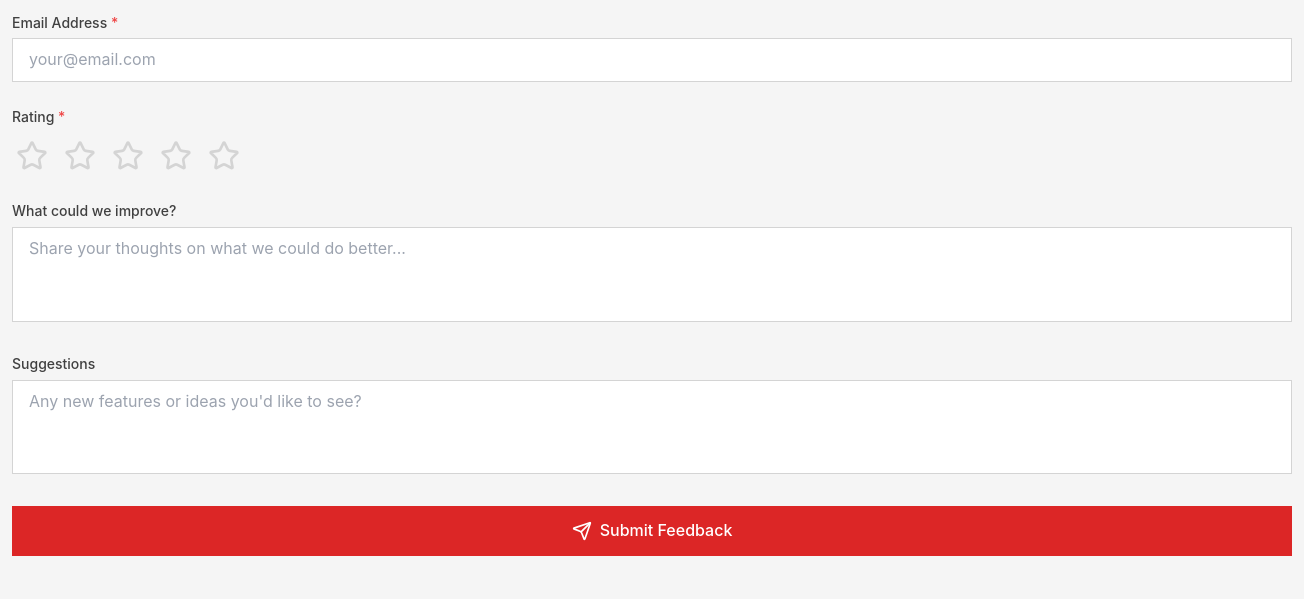
it: PublicFeedbackForm › submits form successfully
Step 1. Type "test@test.com" into the field labelled "Email Address *" → (652, 60), box top-left (12, 38), bottom-right (1292, 82)
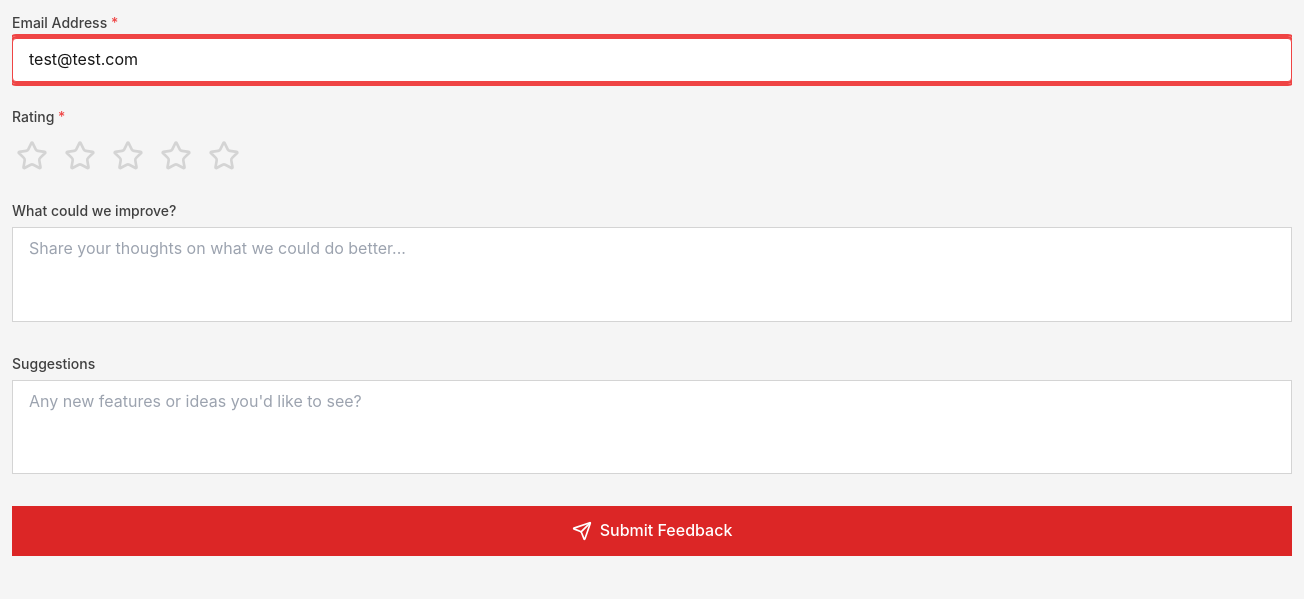
Step 2. Click the 4th button → (176, 156), box top-left (156, 136), bottom-right (196, 176)
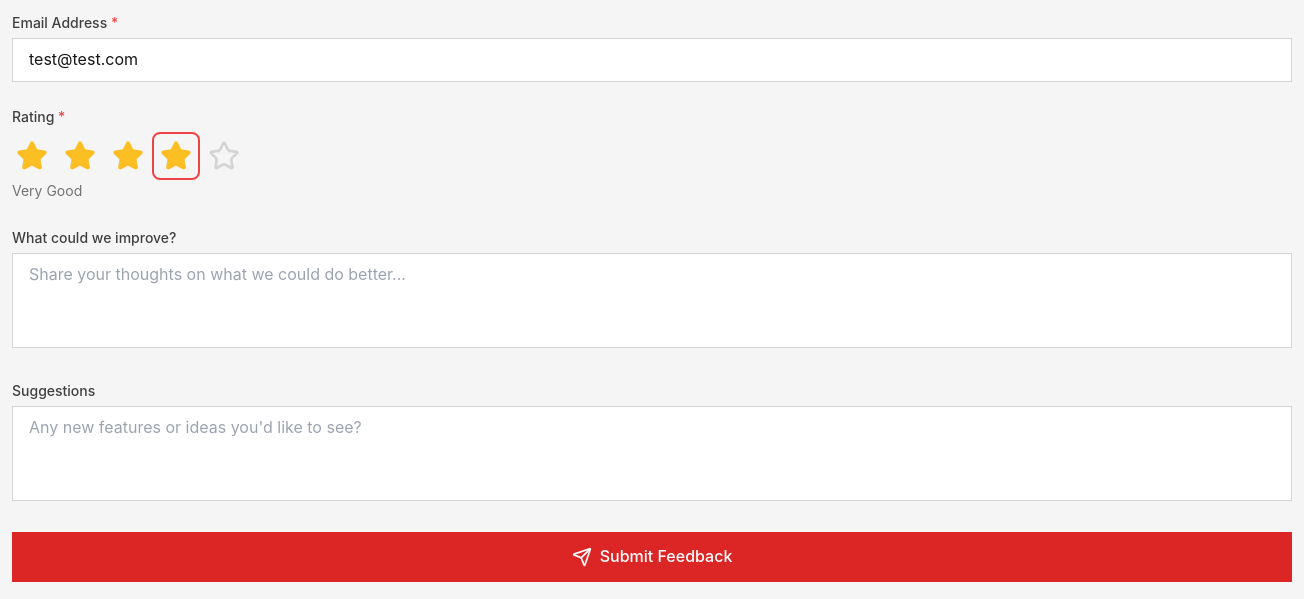
Step 3. Type "Better docs" into the text box labelled "What could we improve?" → (652, 301), box top-left (12, 253), bottom-right (1292, 348)
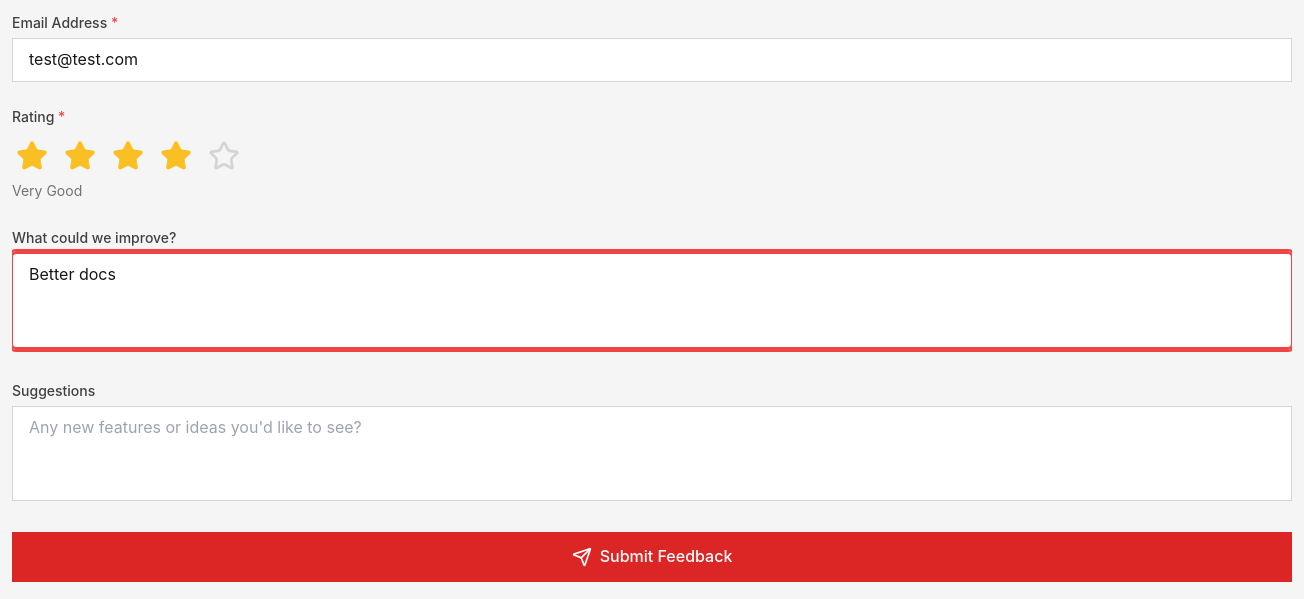
Step 4. Type "Add dark mode" into the text box labelled "Suggestions" → (652, 453), box top-left (12, 406), bottom-right (1292, 501)
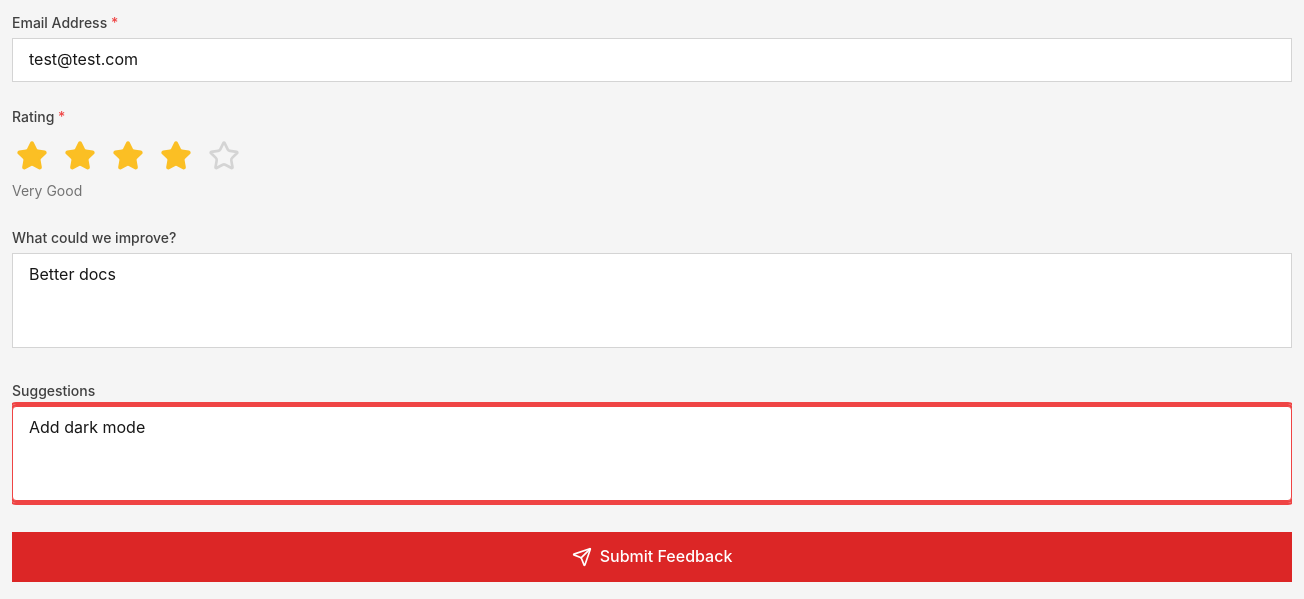
Step 5. Click the button "Submit Feedback" → (652, 557), box top-left (12, 532), bottom-right (1292, 582)
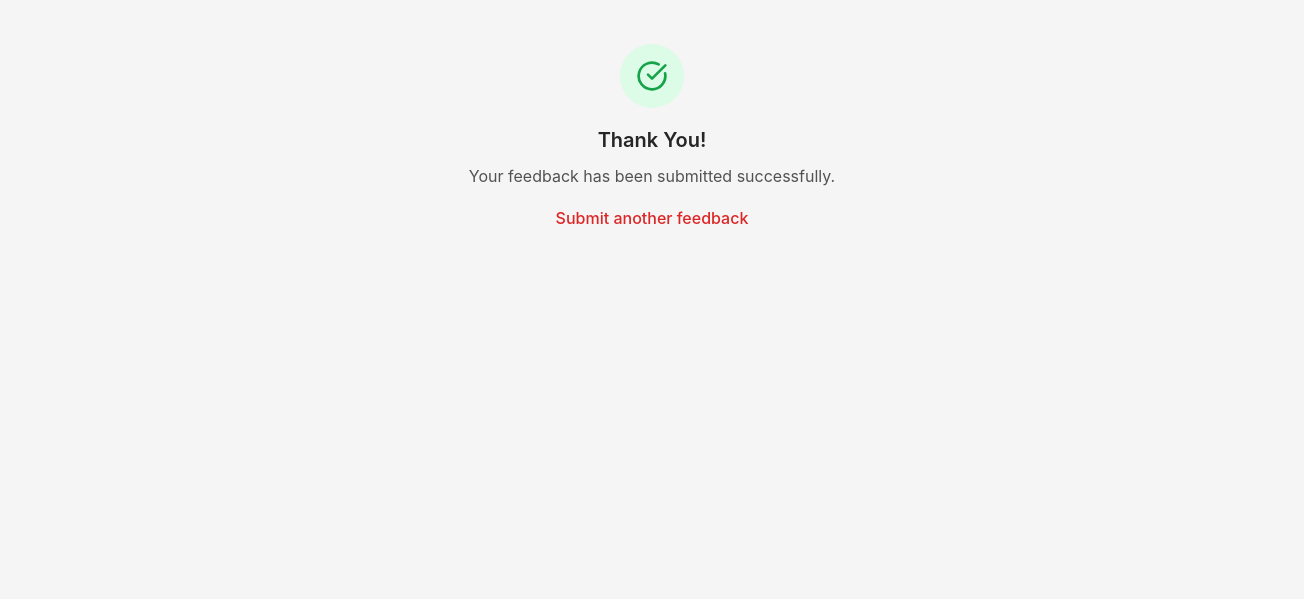
Now the heading "Thank You!" is shown, box top-left (598, 128), bottom-right (706, 152)
